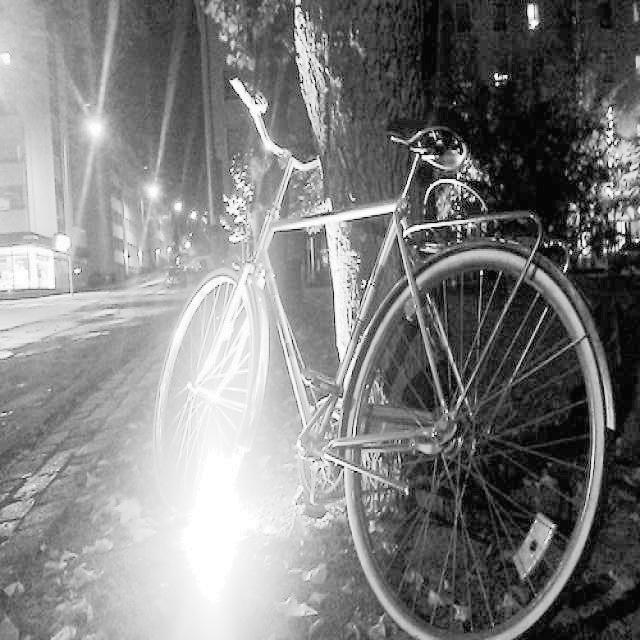Bicycle: (120, 104, 615, 640)
Tree: (288, 0, 426, 367)
